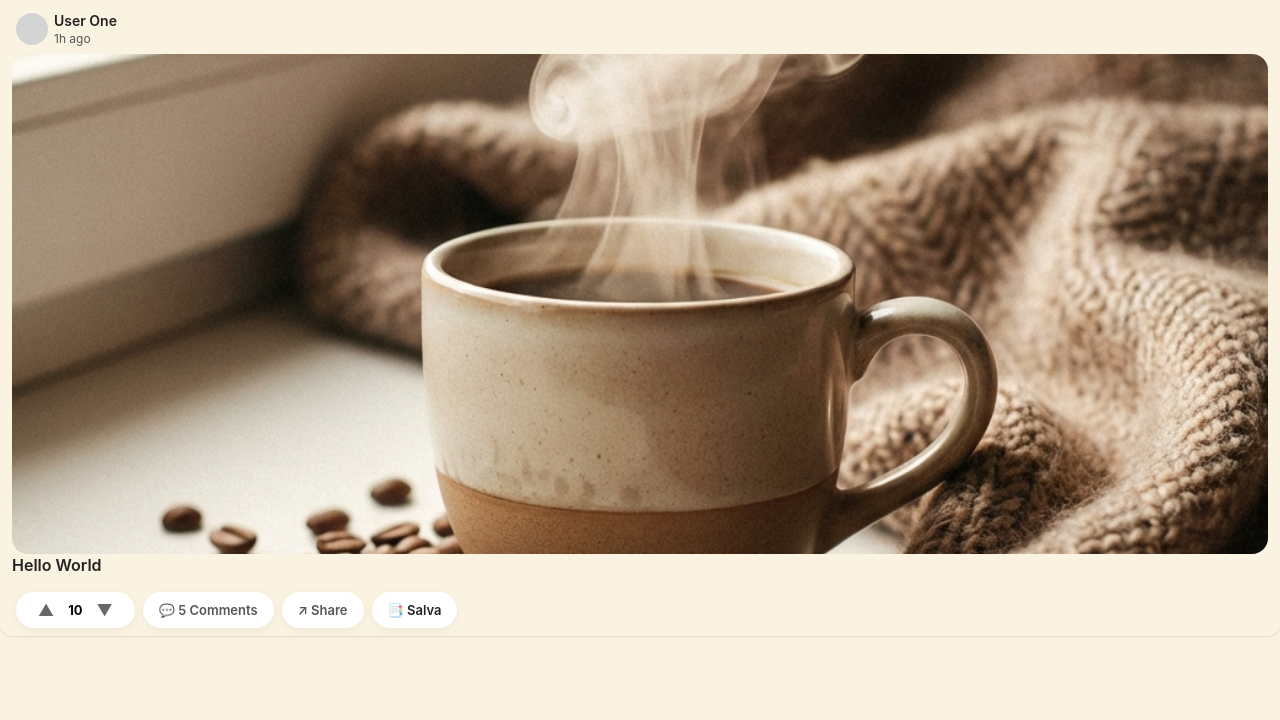
Scenario: PostCard Component › decrements vote count when clicking downvote
Click the button with test id "downvote-btn" at (105, 610), box left=86, top=596, right=123, bottom=624
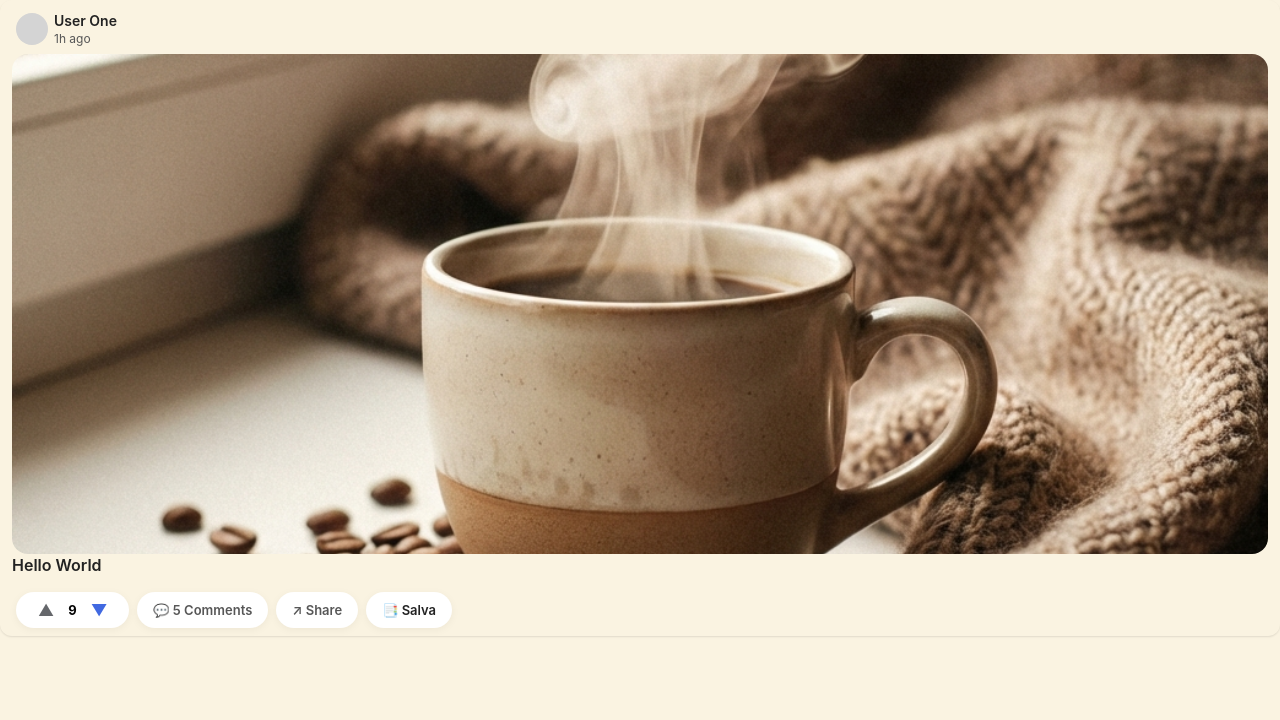
expect the text with test id "vote-count" reads "9": met, box left=68, top=602, right=77, bottom=618
